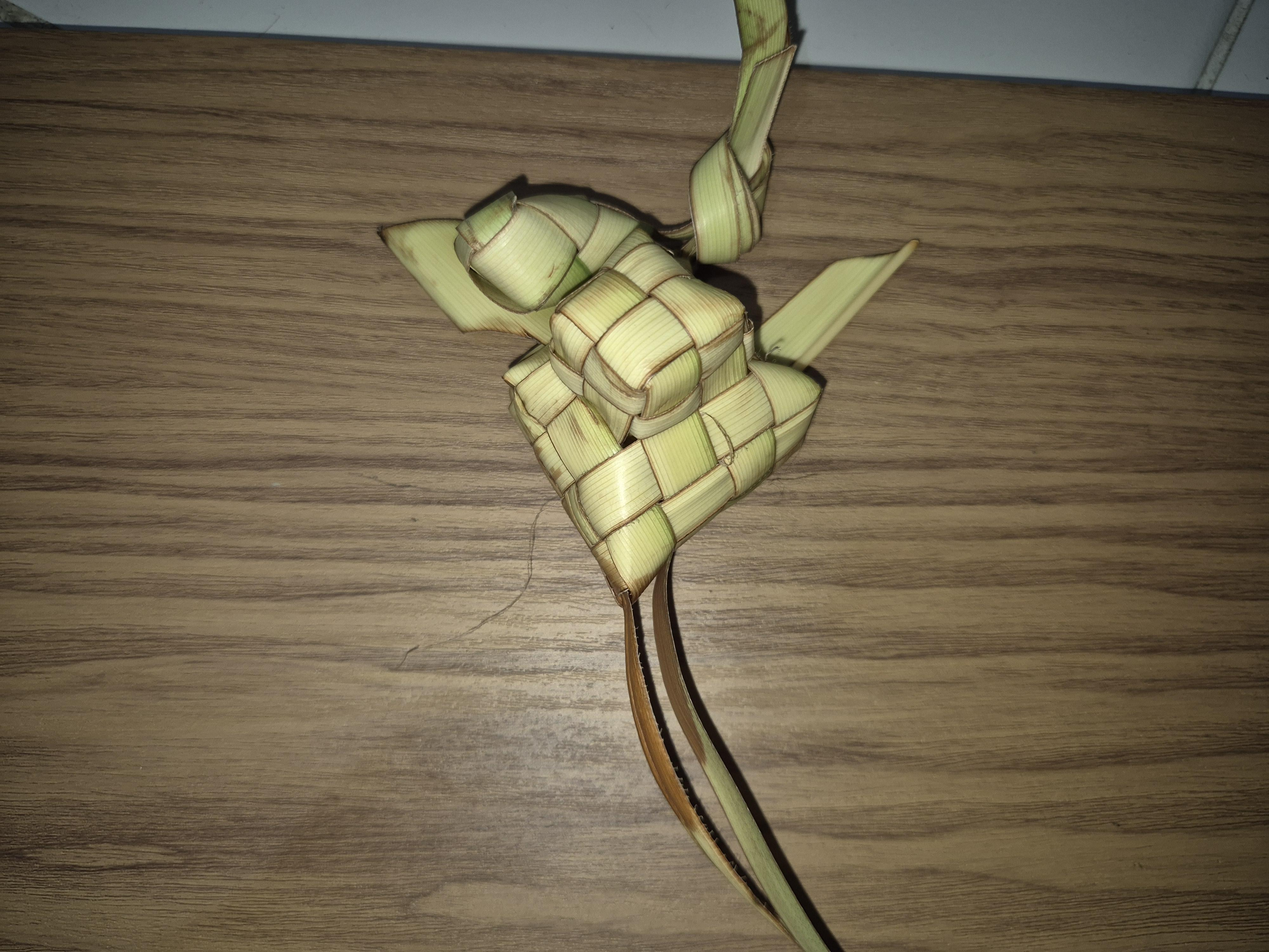Tipat Gong: (473, 378, 946, 615)
